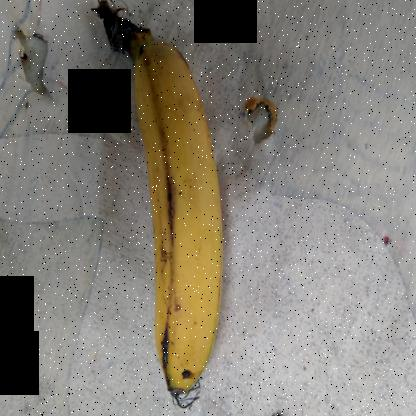ripe: (122, 36, 233, 409)
